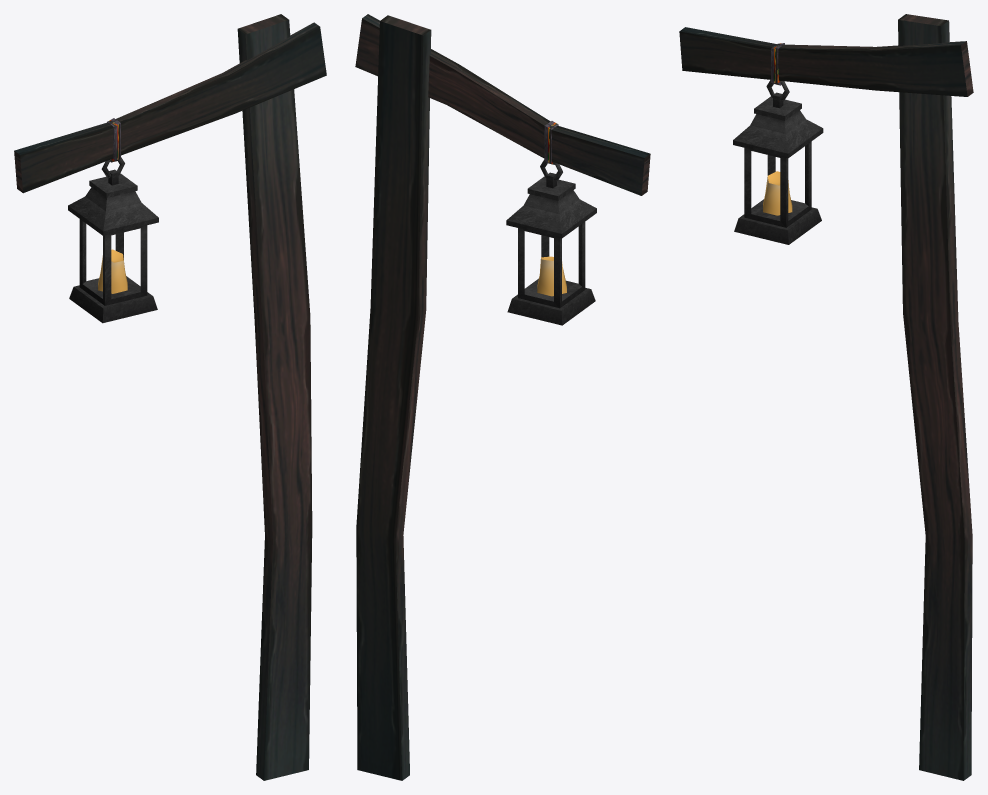
Rendered from Lamp_03.fbx.
The picture shows the model from 3 angles, left to right: view 1: azimuth 30°, elevation 25°; view 2: azimuth 150°, elevation 25°; view 3: azimuth 330°, elevation 25°; orthographic projection.
Visible parts, largest first — view 1: Lamp_03; view 2: Lamp_03; view 3: Lamp_03.
Part boxes in pixels (<box>): Lamp_03: <box>14,14,326,780</box>; Lamp_03: <box>355,14,650,780</box>; Lamp_03: <box>679,14,973,780</box>.
Size of the model in its own units: 85.5 by 207 by 17.46.
